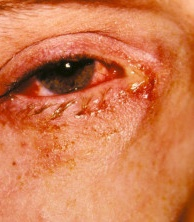SJS-TEN: (0, 30, 175, 141)
